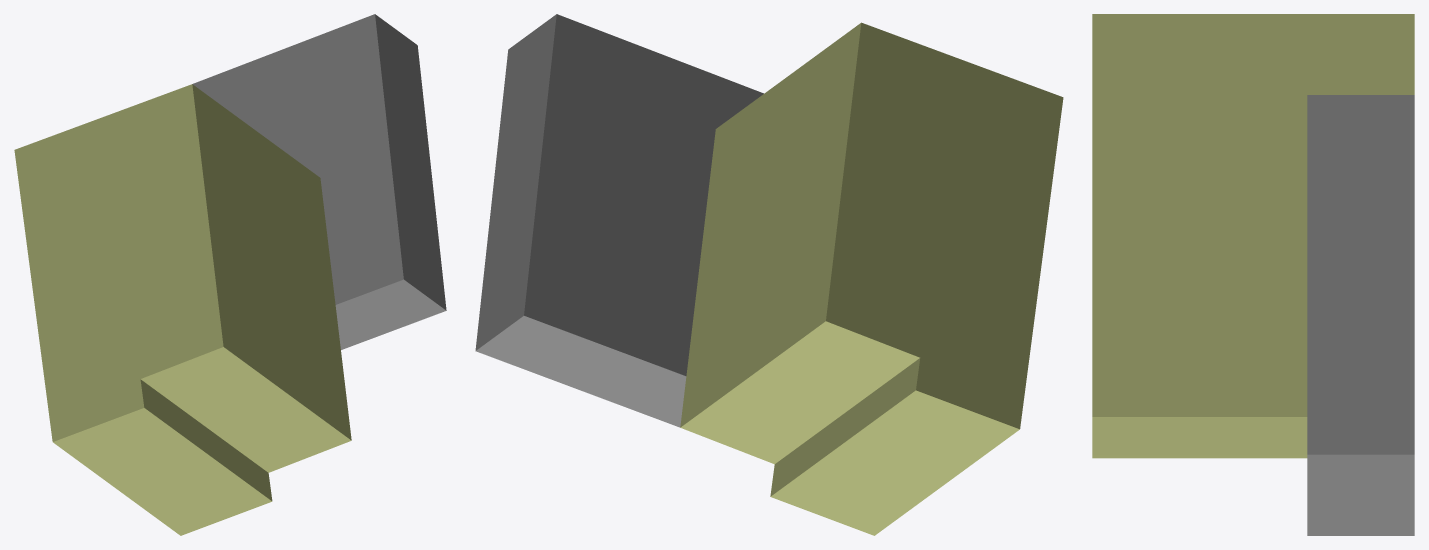
3 views of the same model, side by side, from view 1: azimuth 30°, elevation 25°; view 2: azimuth 150°, elevation 25°; view 3: azimuth 270°, elevation 25° (orthographic). The views are drawn at different scales.
Visible parts, largest first — view 1: 0_1_1_3_3_1_0_2_3_2; view 2: 0_1_1_3_3_1_0_2_3_2; view 3: 0_1_1_3_3_1_0_2_3_2.
Part boxes in pixels (x1=…): 0_1_1_3_3_1_0_2_3_2: x1=14, y1=14, x2=446, y2=535; 0_1_1_3_3_1_0_2_3_2: x1=475, y1=14, x2=1063, y2=535; 0_1_1_3_3_1_0_2_3_2: x1=1092, y1=14, x2=1414, y2=535.
Bounding box in the file's own units: 15.79 × 13.54 × 9.
